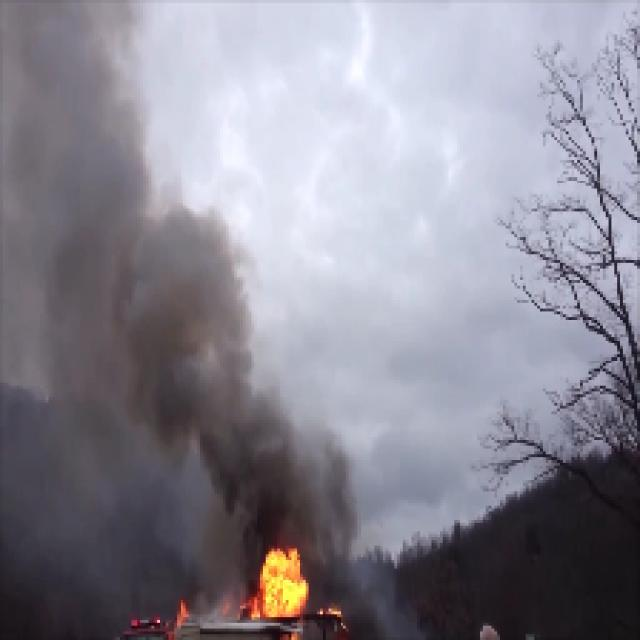smoke: (18, 56, 138, 498), (155, 225, 250, 470)
